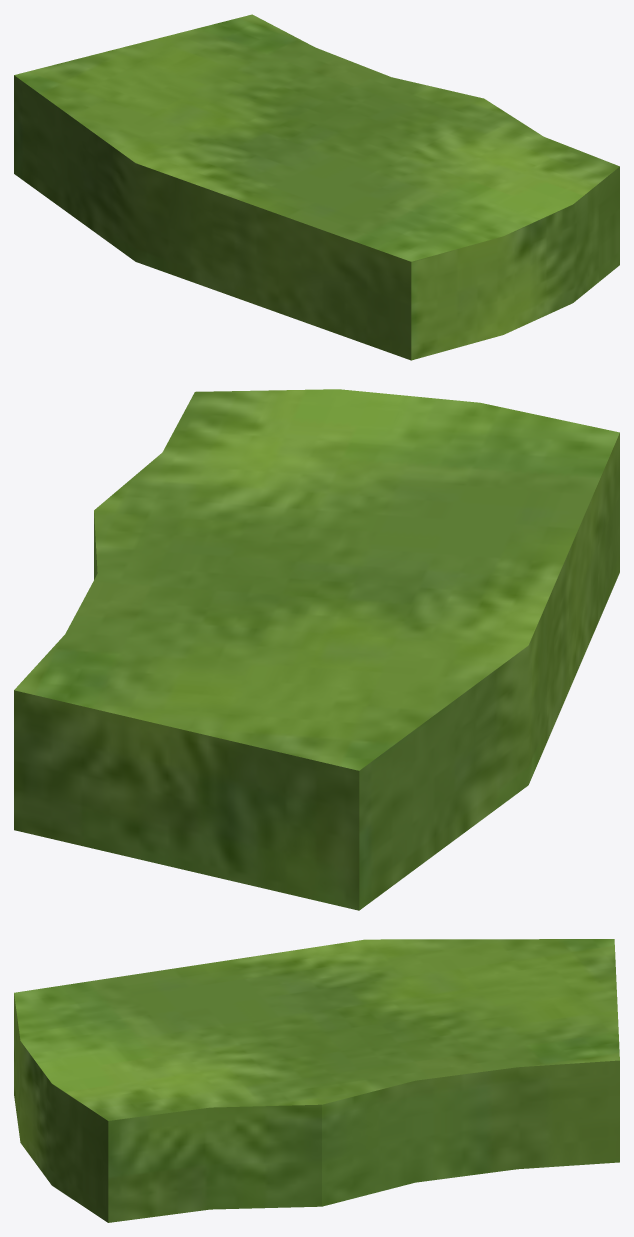
Rendered from platform05.fbx.
3 views of the same model, one above another, from view 1: azimuth 30°, elevation 25°; view 2: azimuth 150°, elevation 25°; view 3: azimuth 270°, elevation 25° (orthographic). The views are drawn at different scales.
Parts seen in each view (by area): view 1: Cube__5_; view 2: Cube__5_; view 3: Cube__5_.
Part boxes in pixels (x1,y1,x2,y2): Cube__5_: (14,14,619,360); Cube__5_: (14,389,619,910); Cube__5_: (14,939,619,1222).
Size of the model in its own units: 1901 by 497 by 2675.
